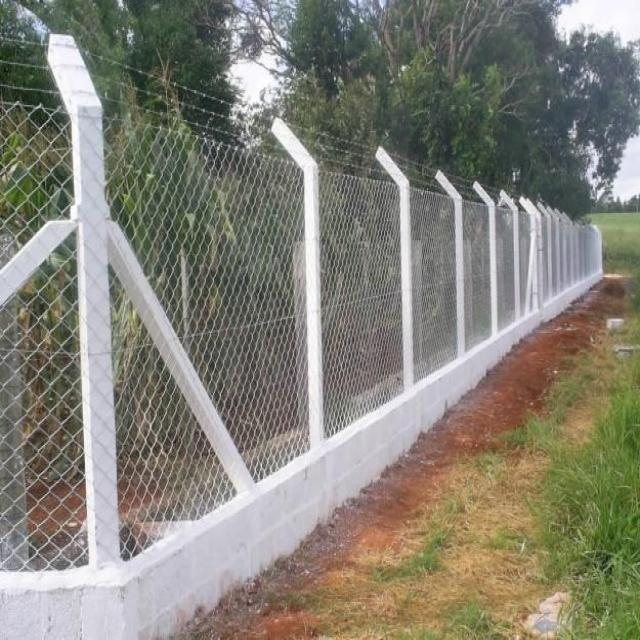fence: (98, 55, 548, 479), (96, 53, 261, 569), (0, 47, 94, 574), (547, 204, 590, 300)
